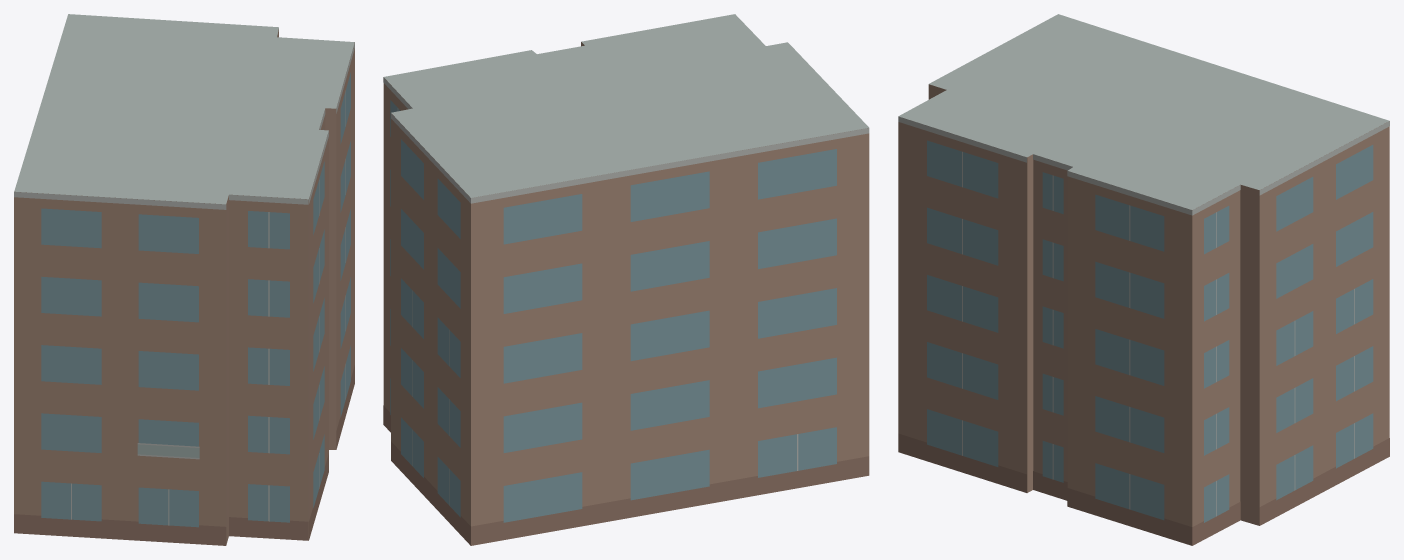
The model's file is survey-upis-32931335.glb.
3 renders of one model, left to right at view 1: azimuth 30°, elevation 25°; view 2: azimuth 150°, elevation 25°; view 3: azimuth 270°, elevation 25°, orthographic. The views are drawn at different scales.
Parts seen in each view (by area): view 1: survey-upis-32931335.tmp; view 2: survey-upis-32931335.tmp; view 3: survey-upis-32931335.tmp.
Boxes of the visible parts, x1=… form: survey-upis-32931335.tmp: x1=14, y1=14, x2=354, y2=545; survey-upis-32931335.tmp: x1=383, y1=14, x2=869, y2=545; survey-upis-32931335.tmp: x1=898, y1=14, x2=1389, y2=545.
Size of the model in its own units: 18.86 by 15.05 by 19.98.
